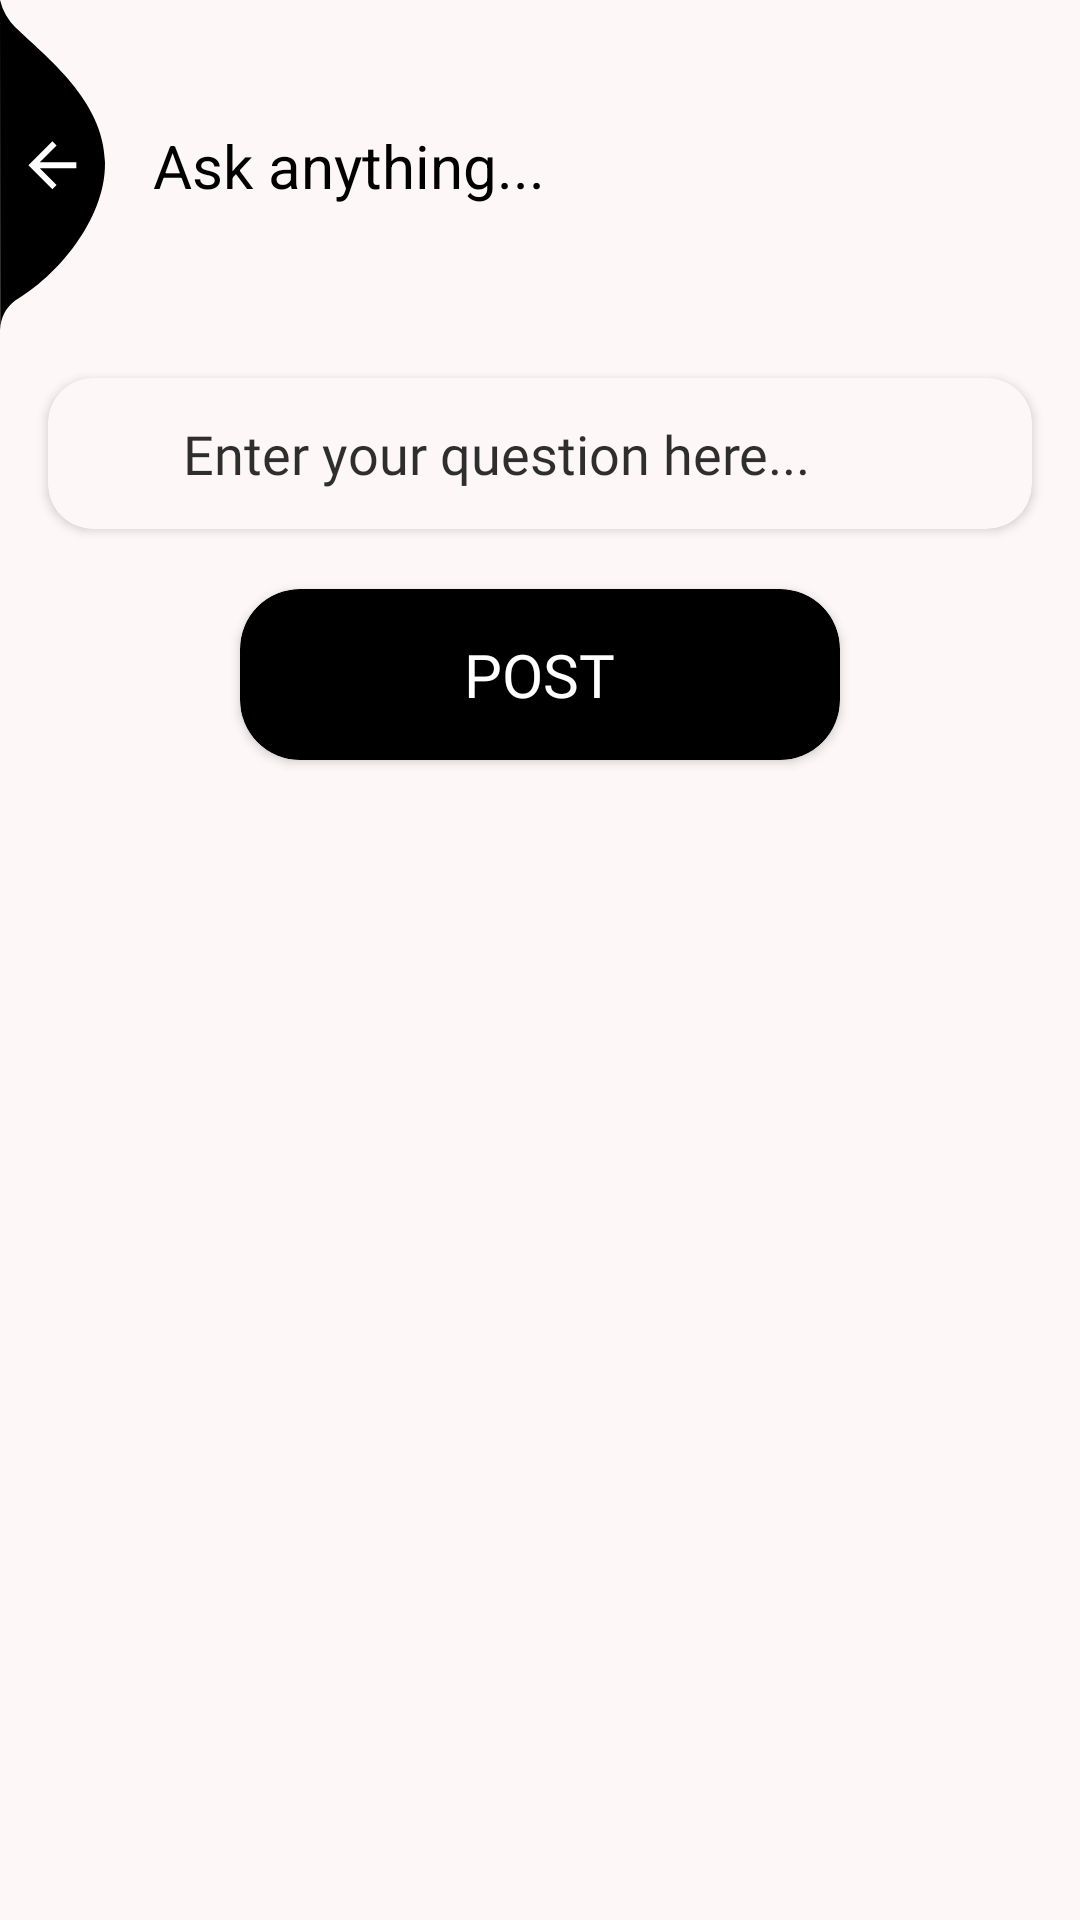

Icon bounding boxes for this 1080 × 1920 phone screenshot, format (x1, y1, x2, y2):
back: (0, 0, 105, 329)
